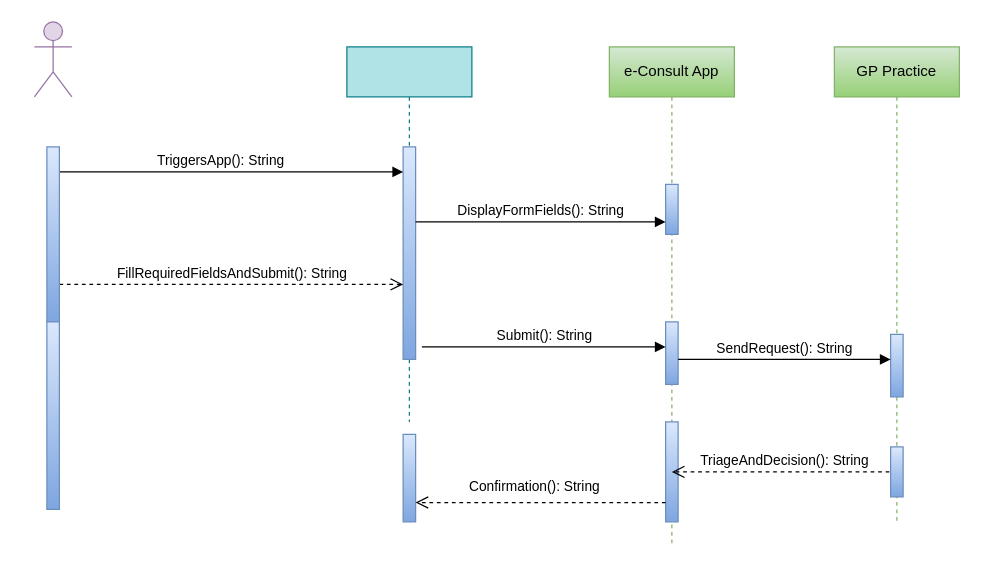
Some shapes in this 981 by 569 pixel diagram are drawn without their labels. Here are the shapes that lost their labels. From the top down, the box of each, then its label:
(33, 21, 72, 97): Patient
(346, 46, 472, 422): UI
